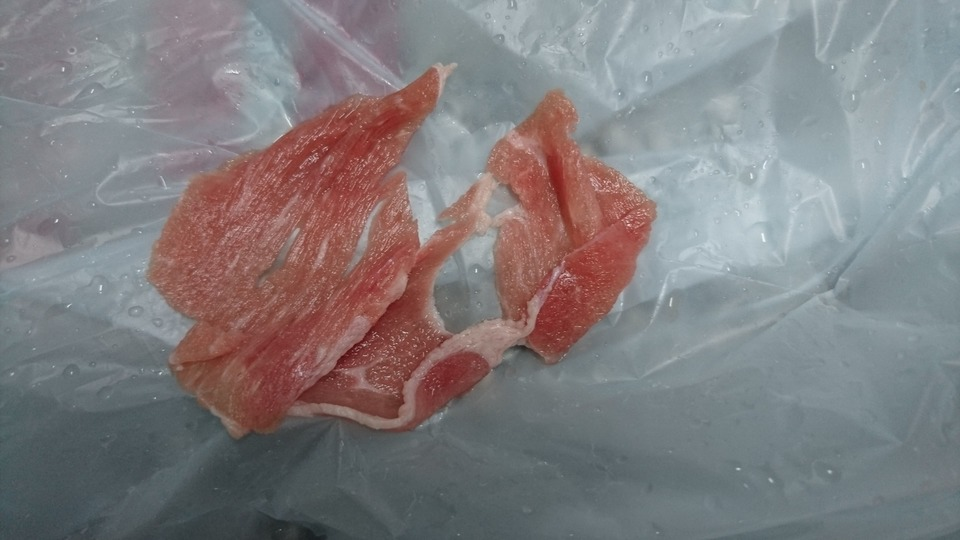restructured meat: (160, 87, 667, 422)
